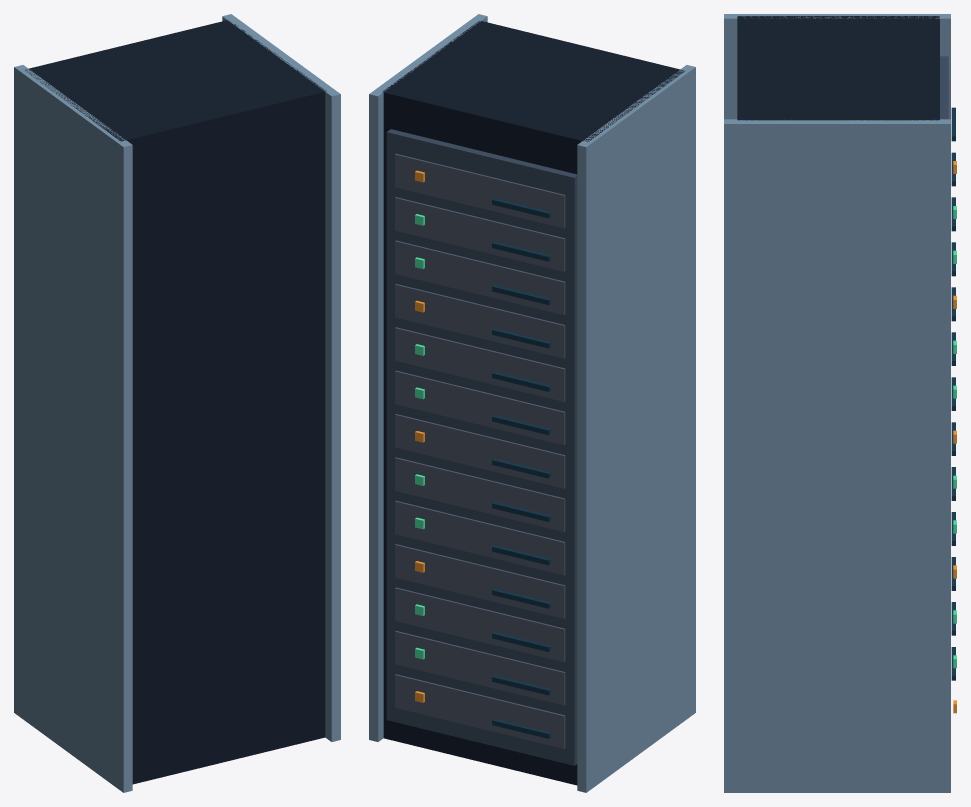
The model's file is env_server_rack.obj.
3 renders of one model, left to right at view 1: azimuth 30°, elevation 25°; view 2: azimuth 150°, elevation 25°; view 3: azimuth 270°, elevation 25°, orthographic. The views are drawn at different scales.
Bounding box in the file's own units: 1.18 × 3.35 × 1.06.
